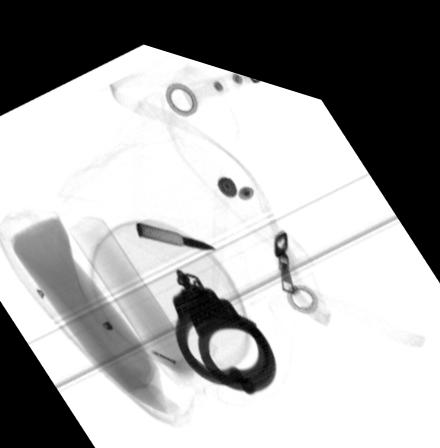Bullet: (133, 213, 217, 234)
HandCuffs: (170, 259, 274, 380)
